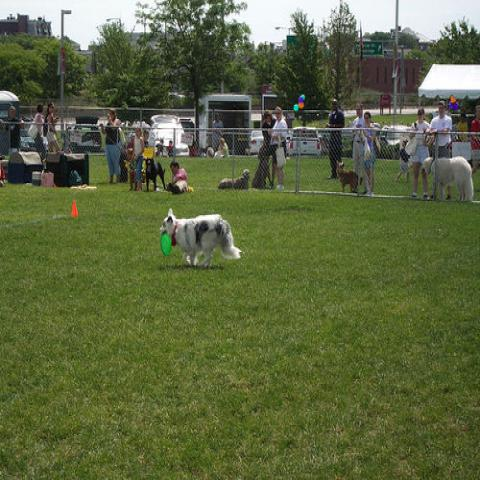car: (148, 114, 190, 158), (70, 116, 102, 152), (287, 126, 322, 156), (384, 126, 410, 154), (251, 131, 263, 154)
truck: (198, 95, 252, 155)
